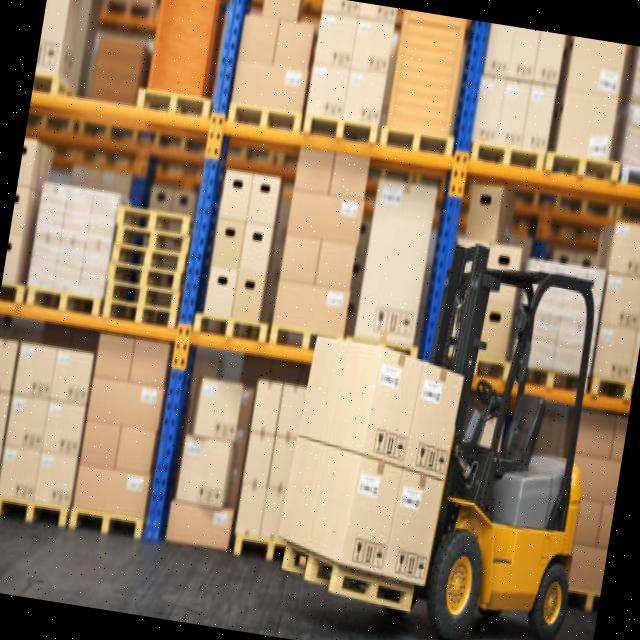Wooden-Pallets: (277, 539, 416, 619), (100, 293, 184, 337), (68, 497, 144, 545), (543, 146, 624, 190), (0, 487, 71, 535), (23, 284, 100, 327), (191, 306, 270, 347), (135, 82, 215, 122), (376, 122, 458, 160), (117, 197, 193, 236), (227, 100, 305, 136), (473, 134, 546, 172), (304, 109, 381, 144)
